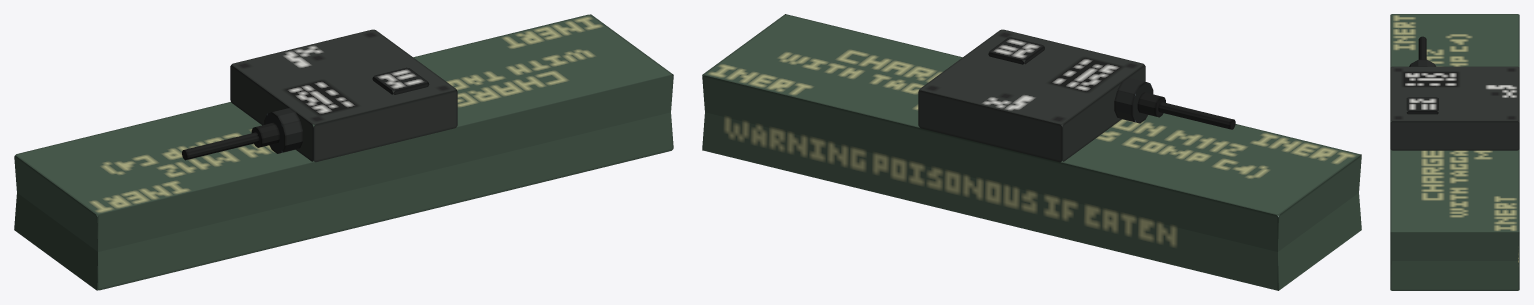
Rendered from M112demo.obj.
The picture shows the model from 3 angles, left to right: view 1: azimuth 30°, elevation 25°; view 2: azimuth 150°, elevation 25°; view 3: azimuth 270°, elevation 25°; orthographic projection. The views are drawn at different scales.
Parts seen in each view (by area): view 1: mesh, cylinder; view 2: mesh, cylinder; view 3: mesh, cylinder.
Boxes of the visible parts, bbox=[...] form: mesh: bbox=[14, 14, 673, 290]; cylinder: bbox=[182, 108, 302, 160]; mesh: bbox=[702, 14, 1361, 290]; cylinder: bbox=[1114, 77, 1235, 129]; mesh: bbox=[1390, 14, 1519, 290]; cylinder: bbox=[1409, 36, 1435, 66].
Size of the model in its own units: 2 by 0.3891 by 0.5.
1 material, 1 textured.
